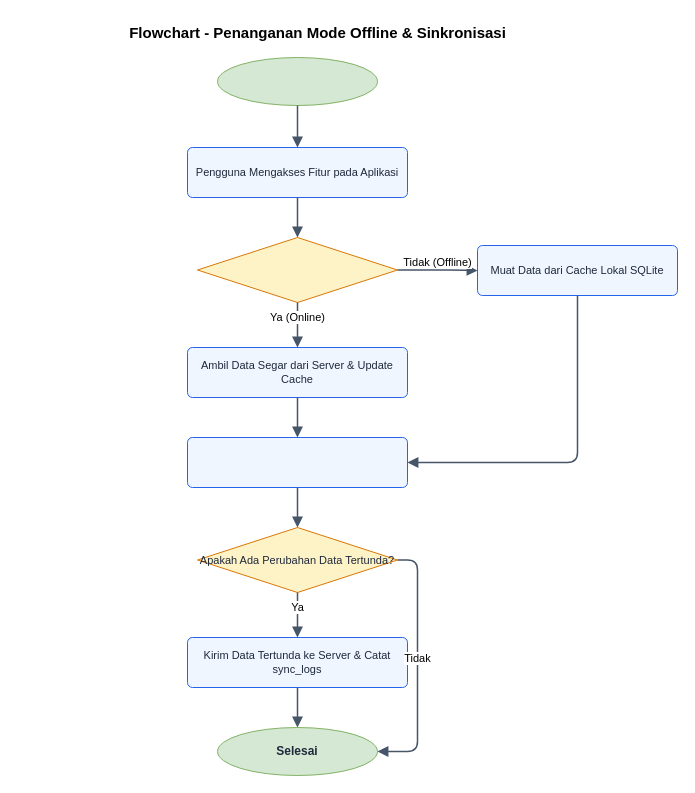
The diagram is 695 pixels wide and 793 high, and some of its shapes have lost their labels. The shapes that lost their labels are listed below. From the top down, each one's centre as x and y in pixels, then its label:
At (x=297, y=81): "Mulai".
At (x=297, y=269): "Apakah Koneksi Internet Tersedia?".
At (x=297, y=462): "Tampilkan Konten ke Layar Pengguna".
